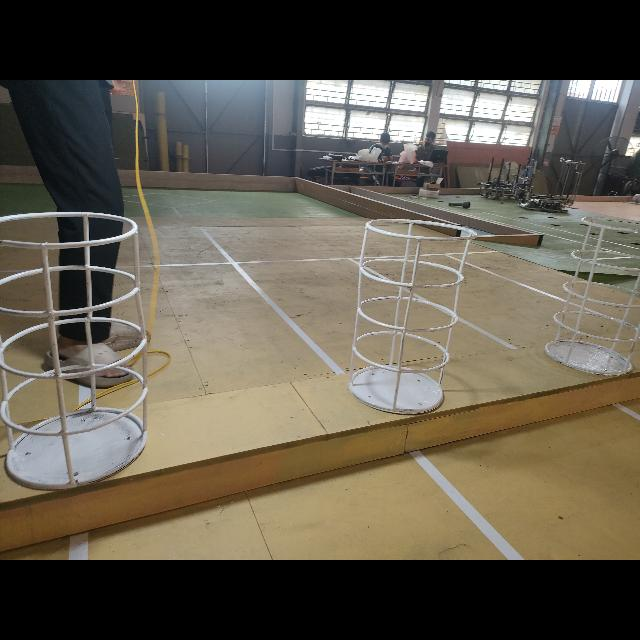S: (0, 204, 156, 496), (348, 210, 478, 418), (534, 211, 640, 386)
